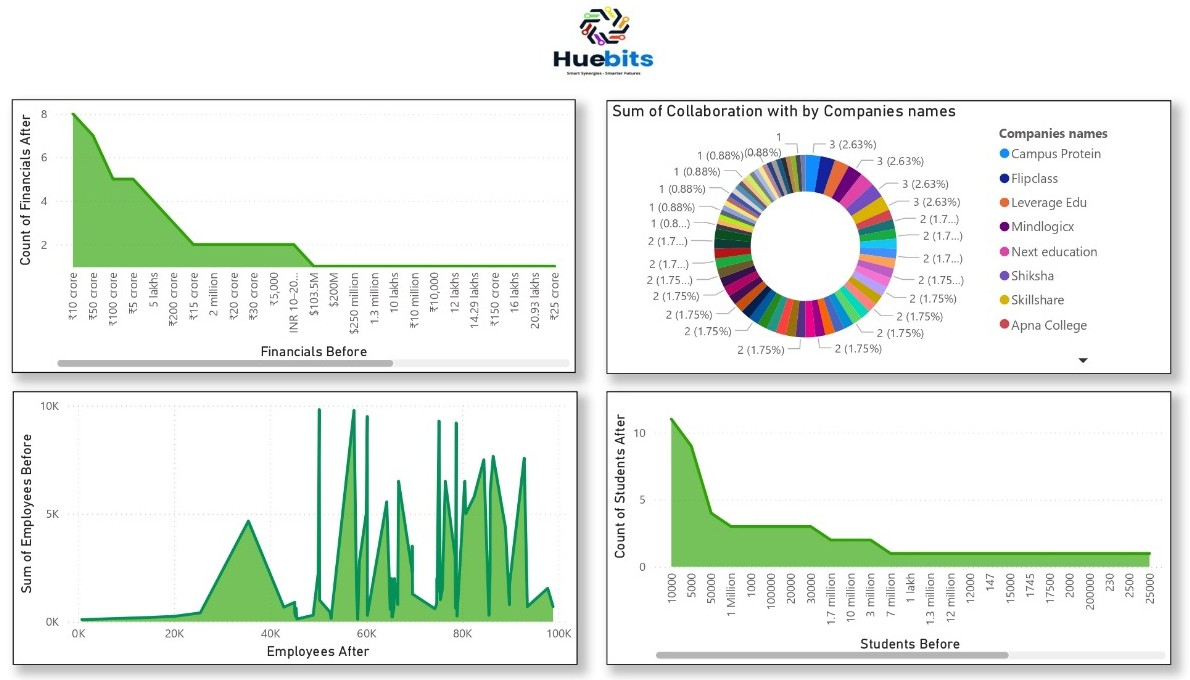

The page's visual inventory and layout, read from the dashboard file:
{"tool":"powerbi","page":{"name":"Page 1","canvas":[1280,720],"ordinal":0},"visuals":[{"type":"areaChart","fields":{"Category":["Sheet1.Employees after aq"],"Y":["Sum(Sheet1.Employees before aq)"]},"box":[43.9,413,585.9,284],"z":0},{"type":"areaChart","fields":{"Category":["Sheet1.FS before aq"],"Y":["CountNonNull(Sheet1.FS after aq)"]},"box":[42.5,109.8,585.9,284],"z":1000},{"type":"areaChart","fields":{"Category":["Sheet1.students before acquaction "],"Y":["CountNonNull(Sheet1.students after acquaction )"]},"box":[660,413,585.9,284],"z":2000},{"type":"donutChart","fields":{"Category":["Sheet1.Companies names"],"Y":["Sum(Sheet1.Collaboration with)"]},"box":[660,111.1,585.9,284],"z":3000},{"type":"image","box":[262.1,0,794.5,97.4],"z":4000}]}

Visuals, with their boxes in screenshot pixels (x1, y1, x2, y2), scaled from the page's 1280x720 canvas onto the 1190x680 screenshot:
areaChart - Sheet1.Employees after aq x Sum(Sheet1.Employees before aq): l=41, t=390, r=586, b=658
areaChart - Sheet1.FS before aq x CountNonNull(Sheet1.FS after aq): l=40, t=104, r=584, b=372
areaChart - Sheet1.students before acquaction  x CountNonNull(Sheet1.students after acquaction ): l=614, t=390, r=1158, b=658
donutChart - Sheet1.Companies names x Sum(Sheet1.Collaboration with): l=614, t=105, r=1158, b=373
image: l=244, t=0, r=982, b=92
